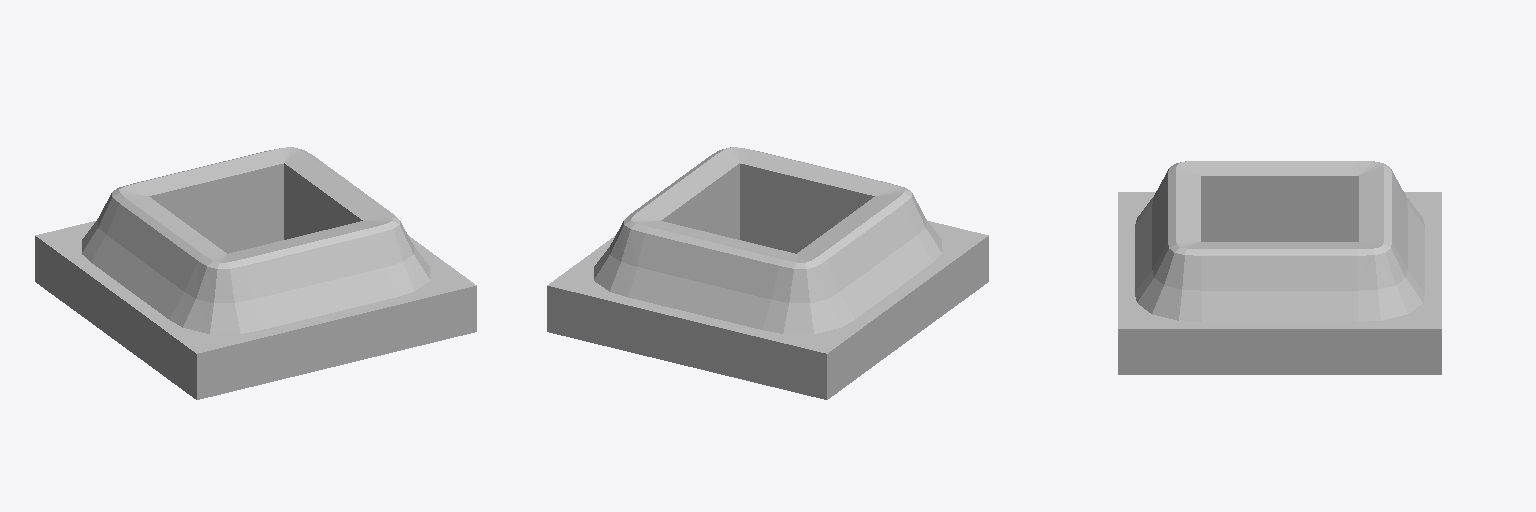
Rendered from OutwardCurvedWall_Lower_4_edges.obj.
3 renders of one model, left to right at view 1: azimuth 30°, elevation 25°; view 2: azimuth 150°, elevation 25°; view 3: azimuth 270°, elevation 25°, orthographic.
Visible parts, largest first — view 1: OutwardCurvedWall_Lower_4_edges export_grp; view 2: OutwardCurvedWall_Lower_4_edges export_grp; view 3: OutwardCurvedWall_Lower_4_edges export_grp.
Part boxes in pixels (bbox=[...]): OutwardCurvedWall_Lower_4_edges export_grp: bbox=[35, 147, 476, 399]; OutwardCurvedWall_Lower_4_edges export_grp: bbox=[547, 147, 988, 399]; OutwardCurvedWall_Lower_4_edges export_grp: bbox=[1118, 161, 1441, 374].
Size of the model in its own units: 8 by 2.78 by 8.